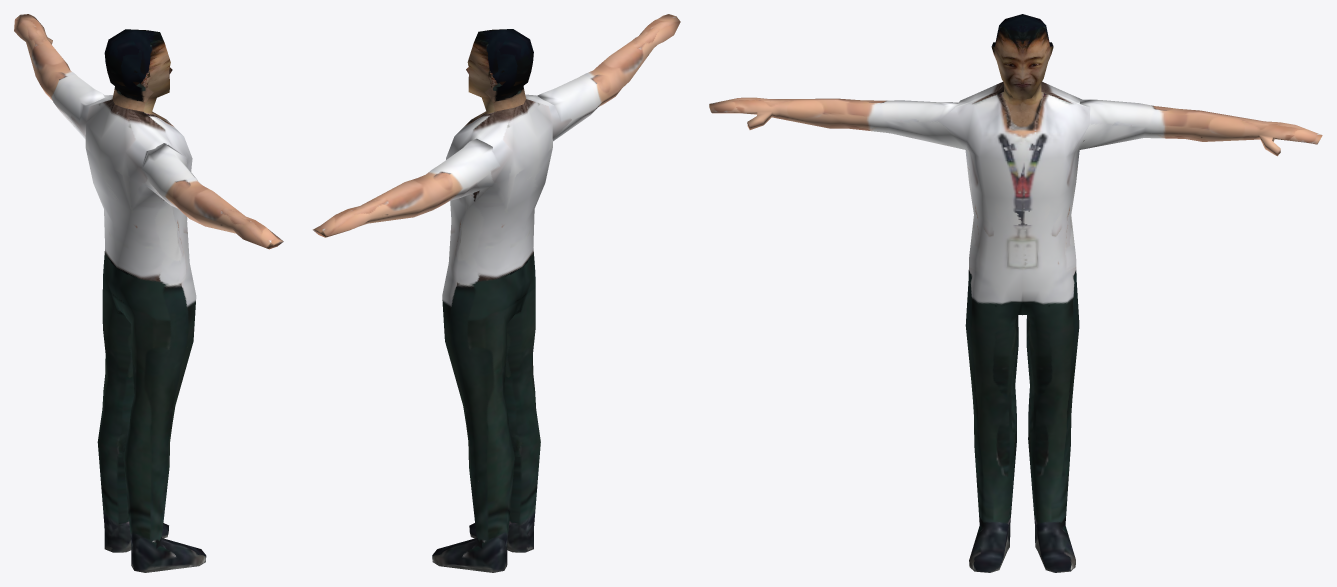
Rendered from glad.obj.
3 views of the same model, side by side, from view 1: azimuth 30°, elevation 25°; view 2: azimuth 150°, elevation 25°; view 3: azimuth 270°, elevation 25° (orthographic).
Visible parts, largest first — view 1: glad; view 2: glad; view 3: glad.
Boxes of the visible parts, left/top/right/bottom form: glad: left=14, top=14, right=283, bottom=572; glad: left=312, top=14, right=680, bottom=572; glad: left=709, top=14, right=1322, bottom=572.
Bounding box in the file's own units: 0.793 × 4.62 × 4.83.
